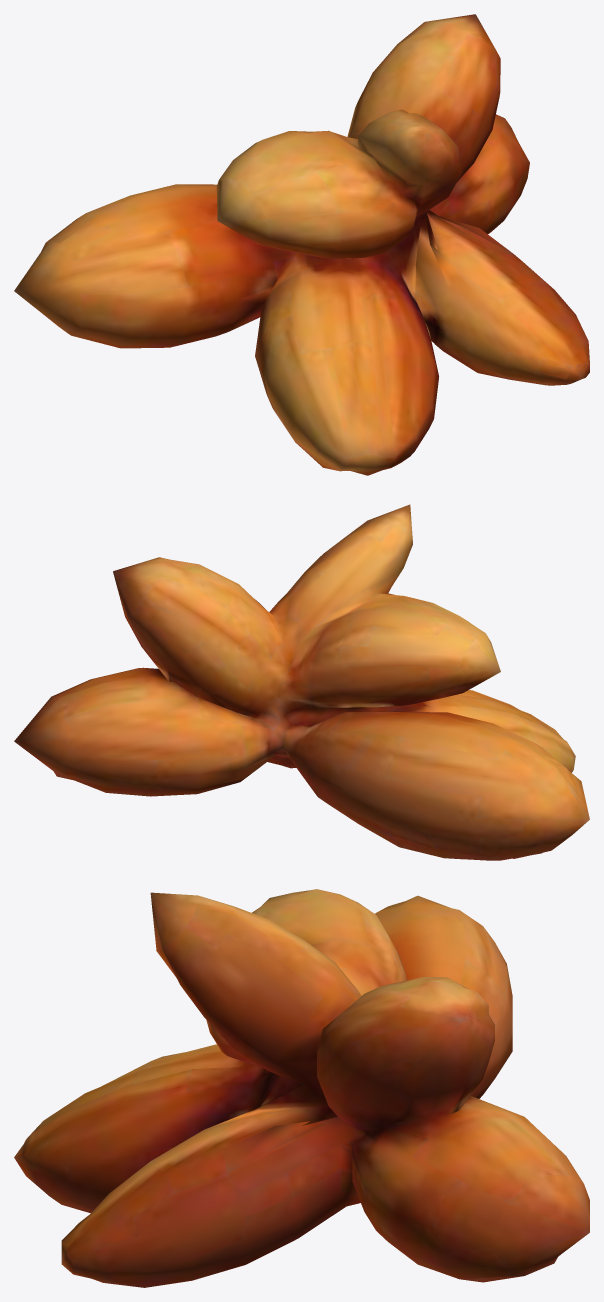
File: almonds.glb
3 renders of one model, top to bottom at view 1: azimuth 30°, elevation 25°; view 2: azimuth 150°, elevation 25°; view 3: azimuth 270°, elevation 25°, orthographic. The views are drawn at different scales.
Parts seen in each view (by area): view 1: Almonds; view 2: Almonds; view 3: Almonds.
Boxes of the visible parts, box(x1,y1,x2,y2) form: Almonds: box(14, 14, 589, 475); Almonds: box(14, 504, 589, 860); Almonds: box(14, 889, 589, 1287).
Size of the model in its own units: 1.56 by 0.8293 by 1.2.
Materials: 1 (1 with a texture image).
